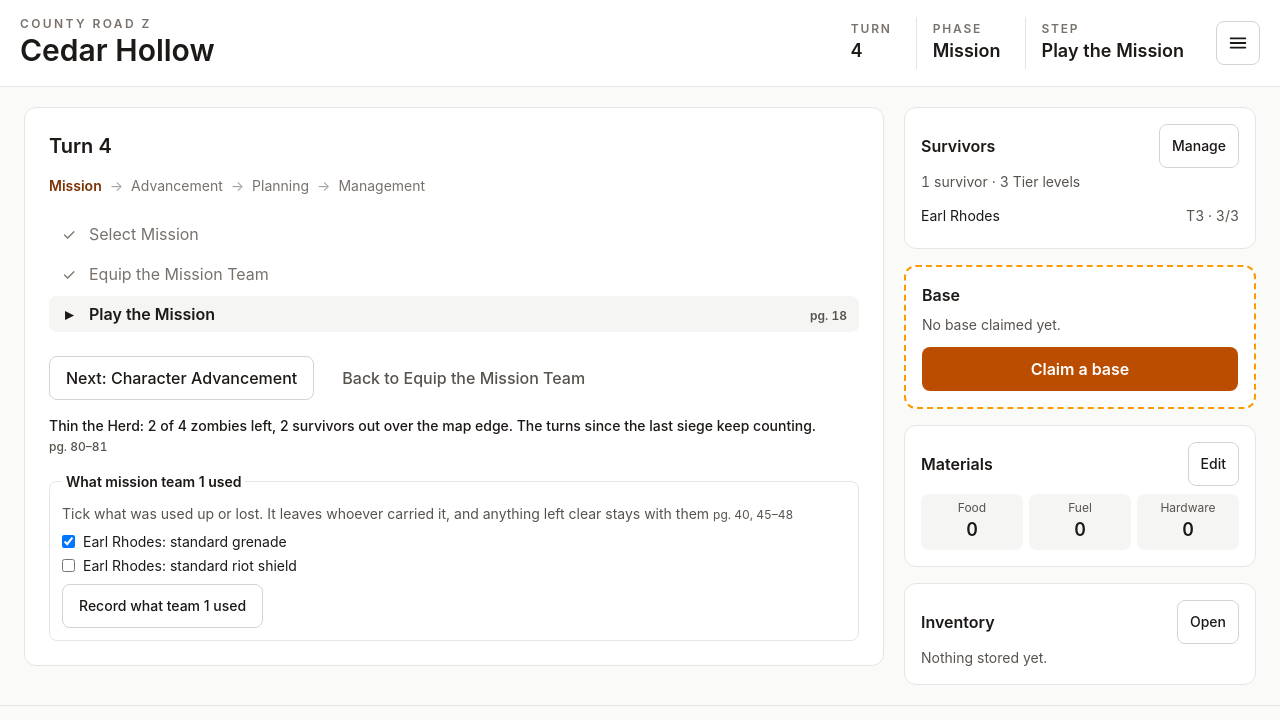
What a mission used (pp. 40, 45–48; Z5-5) › records a riot shield the table says was lost
Click the checkbox labelled "Earl Rhodes: standard grenade" at coordinates (68, 542), box [62,535,75,548]
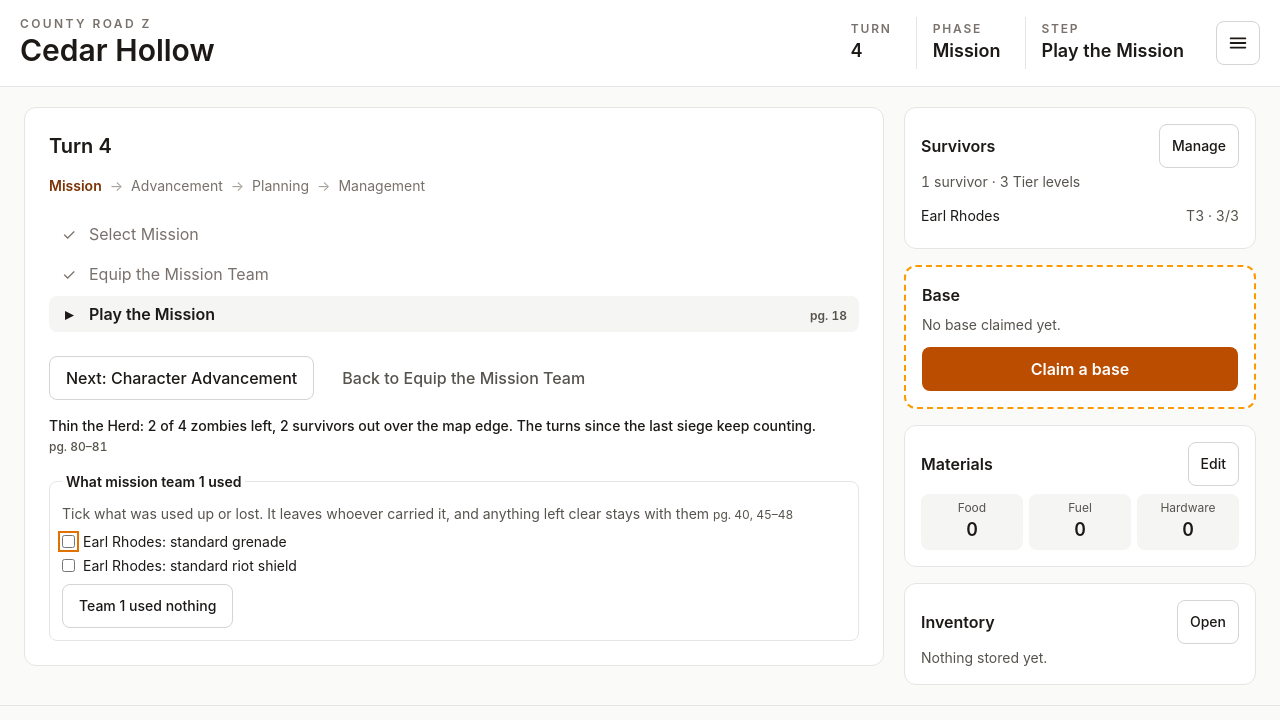
Click the checkbox labelled "Earl Rhodes: standard riot shield" at coordinates (68, 566), box [62,559,75,572]
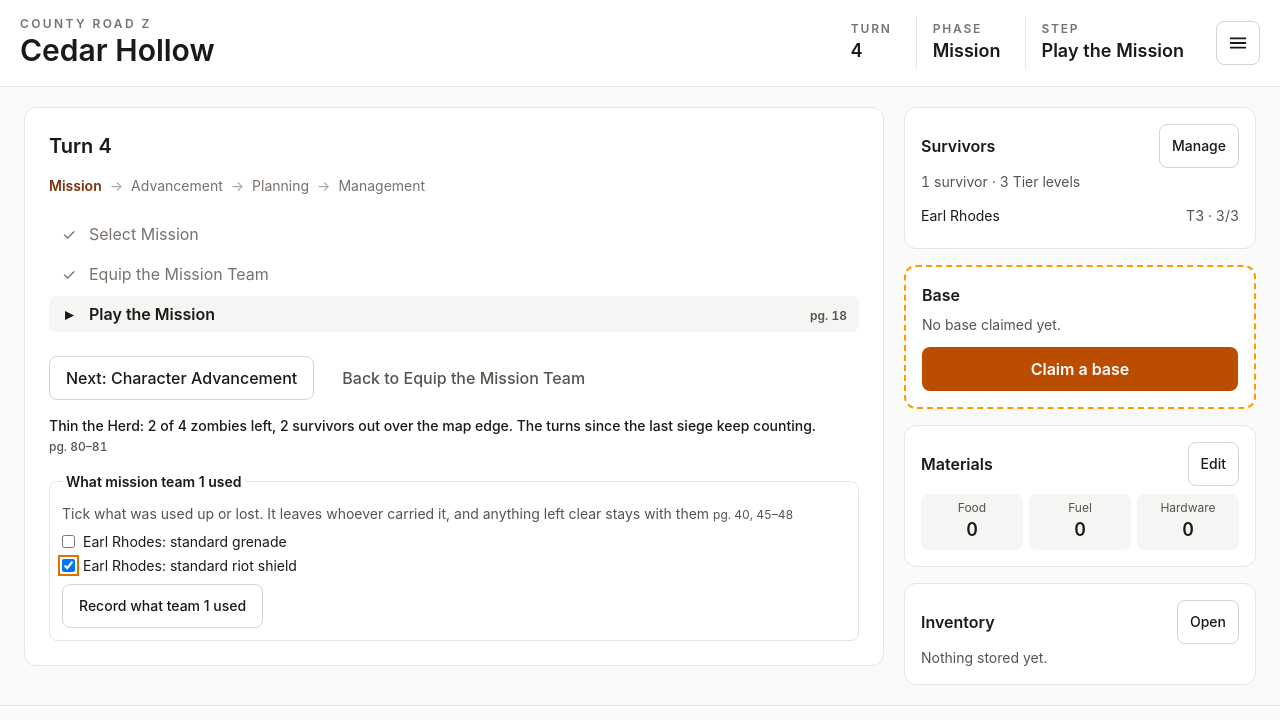
Click the button "Record what team 1 used" at coordinates (163, 606), box [62,584,263,628]
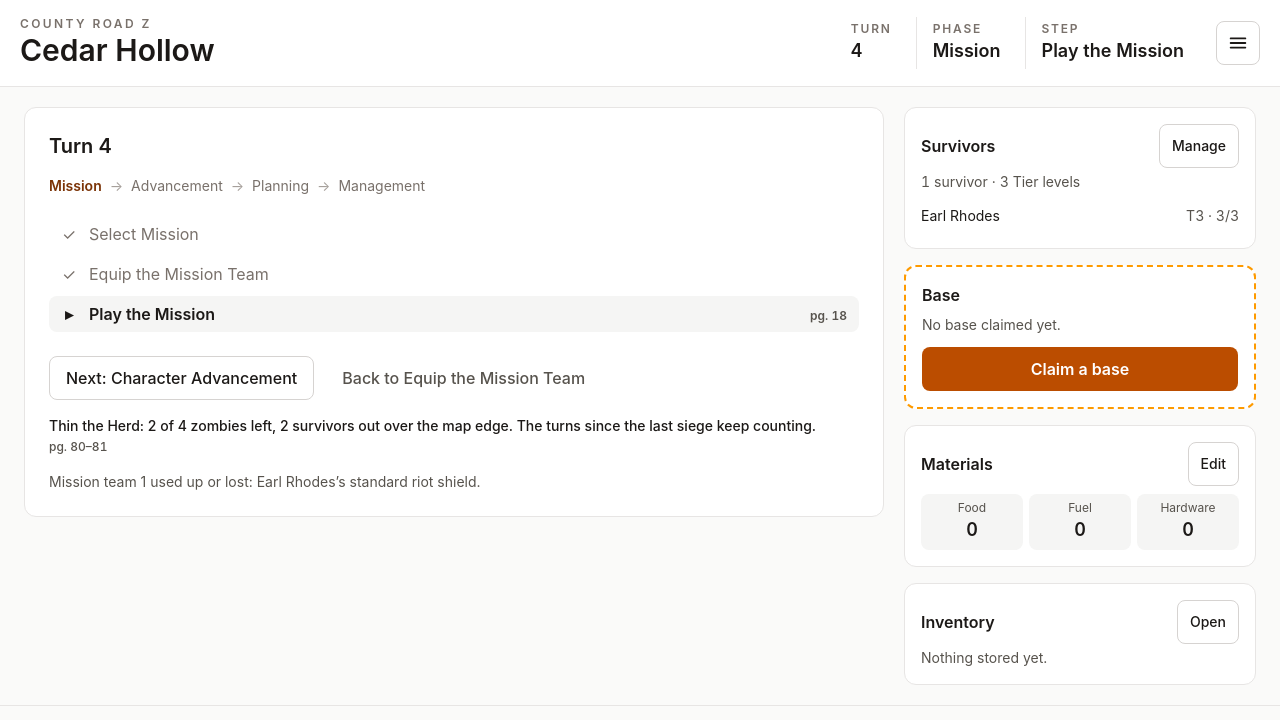
Now the text "used up or lost: Earl Rhodes’s standard riot shield." is shown, box [49,472,481,490]
